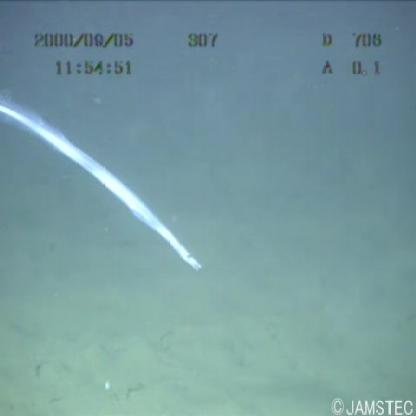Bio: (1, 97, 204, 276)
